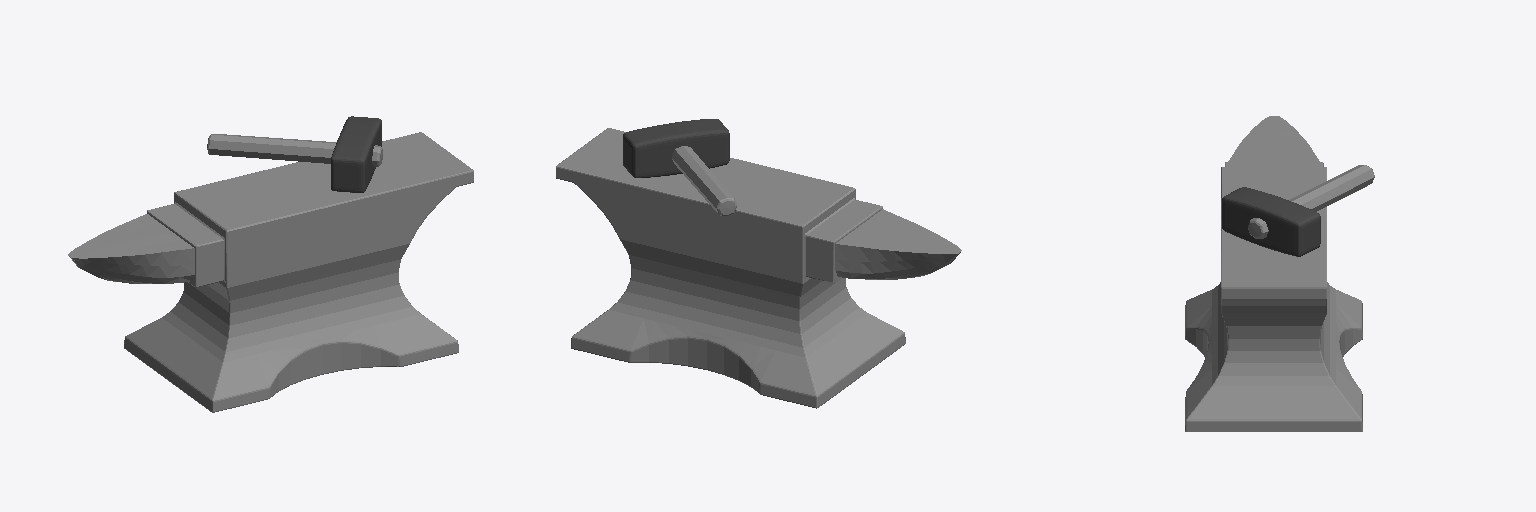
The model's file is Anvil.obj.
3 renders of one model, left to right at view 1: azimuth 30°, elevation 25°; view 2: azimuth 150°, elevation 25°; view 3: azimuth 270°, elevation 25°, orthographic.
Parts seen in each view (by area): view 1: Anvil_Standart_Anvil, Anvil_Standart_hammer, Anvil_Standart_handle; view 2: Anvil_Standart_Anvil, Anvil_Standart_hammer, Anvil_Standart_handle; view 3: Anvil_Standart_Anvil, Anvil_Standart_hammer, Anvil_Standart_handle.
Part boxes in pixels (left/top/right/bottom): Anvil_Standart_Anvil: left=68, top=132, right=473, bottom=412; Anvil_Standart_hammer: left=331, top=116, right=381, bottom=192; Anvil_Standart_handle: left=207, top=134, right=382, bottom=166; Anvil_Standart_Anvil: left=556, top=128, right=961, bottom=408; Anvil_Standart_hammer: left=623, top=119, right=729, bottom=177; Anvil_Standart_handle: left=672, top=146, right=737, bottom=215; Anvil_Standart_Anvil: left=1185, top=116, right=1362, bottom=431; Anvil_Standart_hammer: left=1222, top=187, right=1320, bottom=256; Anvil_Standart_handle: left=1248, top=165, right=1374, bottom=238.
Bounding box in the file's own units: 31.04 × 15.78 × 13.47.